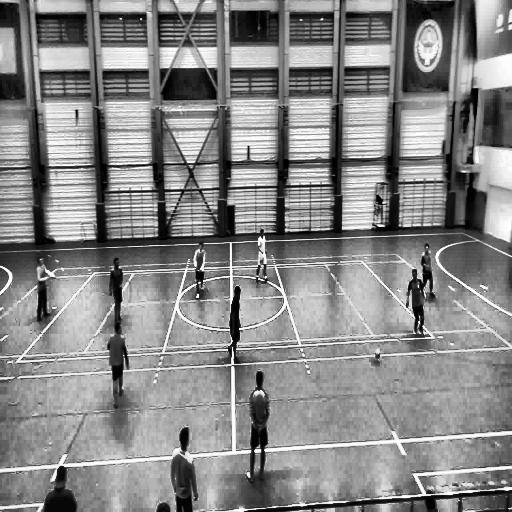ball: (374, 348, 380, 358)
player: (247, 370, 269, 483), (172, 425, 198, 512), (108, 320, 130, 409), (406, 269, 425, 336), (36, 256, 55, 323), (227, 284, 241, 364), (109, 256, 123, 326), (420, 244, 434, 299), (256, 228, 268, 282), (194, 241, 205, 298)
